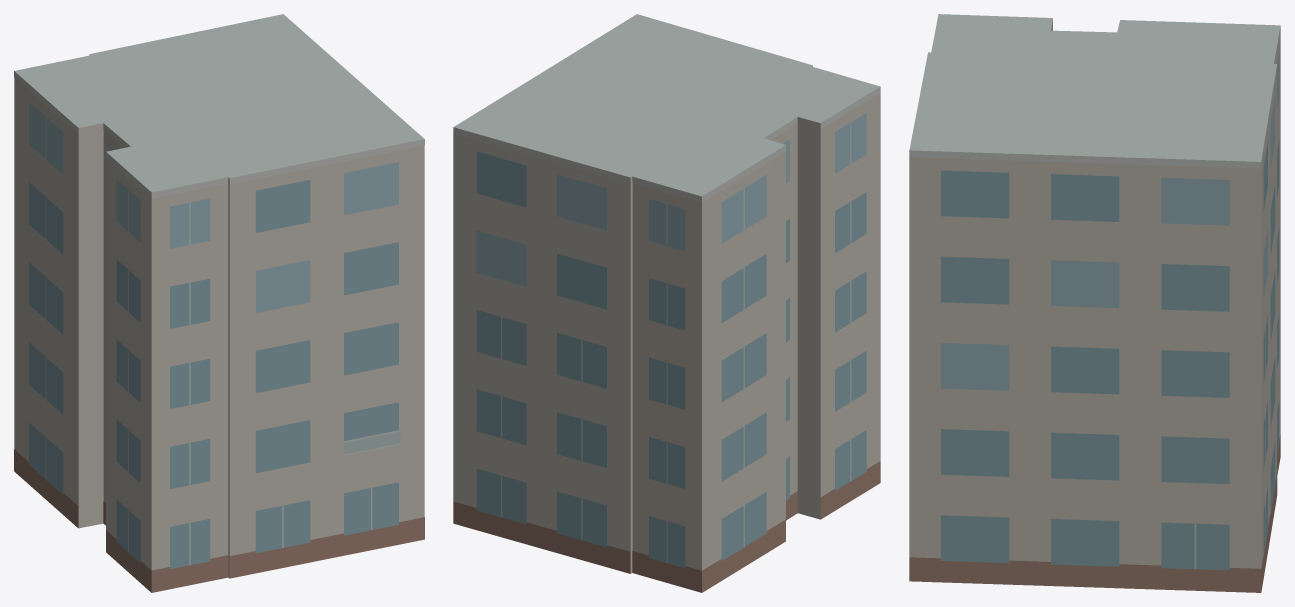
Rendered from survey-upis-32949000.glb.
3 views of the same model, side by side, from view 1: azimuth 30°, elevation 25°; view 2: azimuth 150°, elevation 25°; view 3: azimuth 270°, elevation 25° (orthographic). The views are drawn at different scales.
Visible parts, largest first — view 1: survey-upis-32949000.tmp; view 2: survey-upis-32949000.tmp; view 3: survey-upis-32949000.tmp.
Part boxes in pixels (x1,y1,x2,y2): survey-upis-32949000.tmp: (14, 14, 424, 592); survey-upis-32949000.tmp: (453, 14, 880, 592); survey-upis-32949000.tmp: (909, 14, 1280, 592).
Size of the model in its own units: 11.42 by 15.5 by 12.11.
